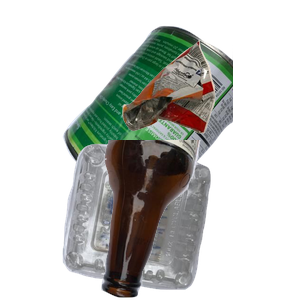glass: (99, 140, 300, 300)
metal: (60, 23, 300, 203)
plastic: (60, 141, 263, 300)
trash: (120, 38, 300, 164)
